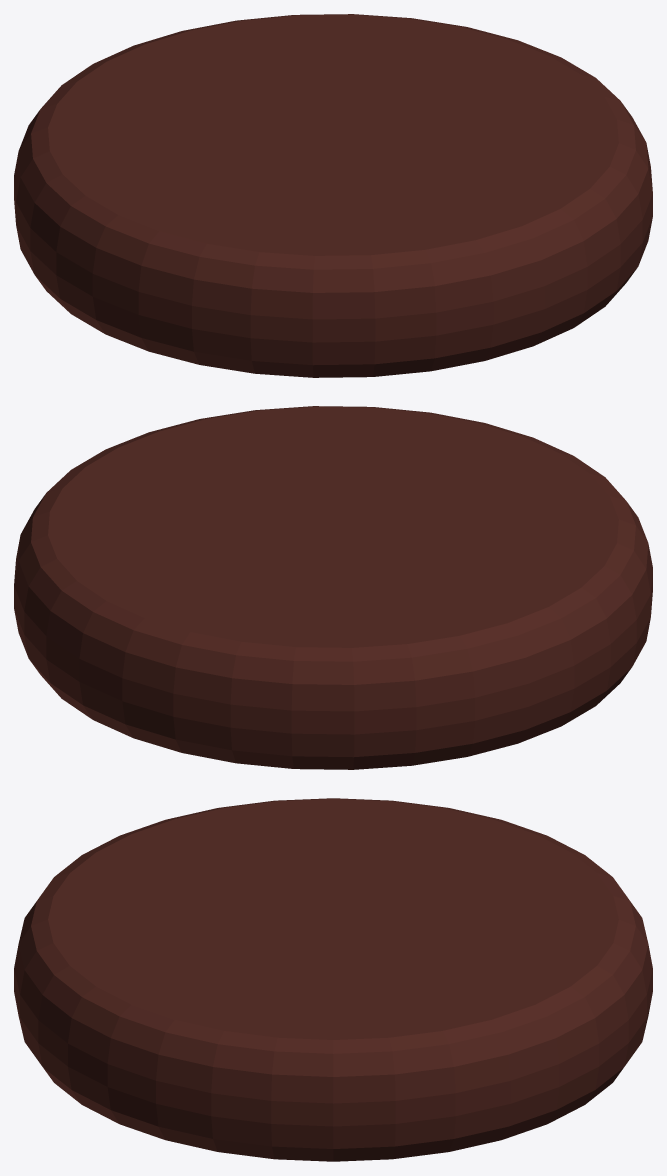
The model's file is BurgerPatty.fbx.
The picture shows the model from 3 angles, top to bottom: view 1: azimuth 30°, elevation 25°; view 2: azimuth 150°, elevation 25°; view 3: azimuth 270°, elevation 25°; orthographic projection.
Visible parts, largest first — view 1: Cylinder; view 2: Cylinder; view 3: Cylinder.
Boxes of the visible parts, x1,y1,x2,y2 form: Cylinder: (14, 14, 652, 377); Cylinder: (14, 406, 652, 769); Cylinder: (14, 798, 652, 1161).
Bounding box in the file's own units: 125 × 26.19 × 125.
